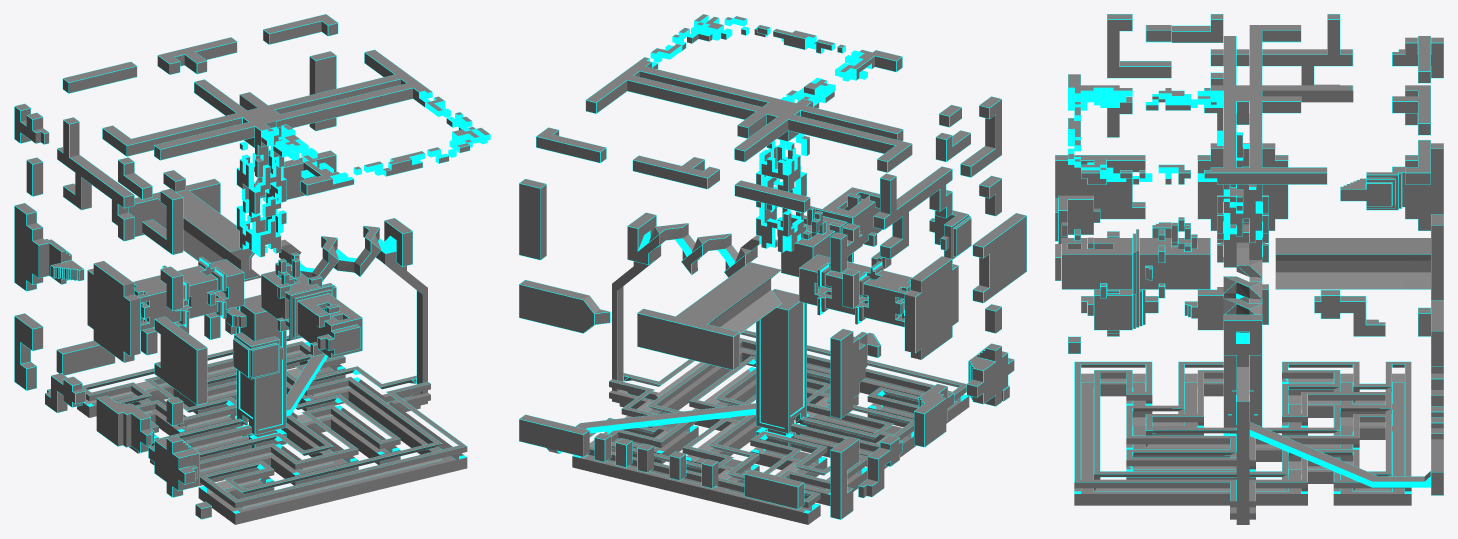
File: Level1wedge.fbx
3 views of the same model, side by side, from view 1: azimuth 30°, elevation 25°; view 2: azimuth 150°, elevation 25°; view 3: azimuth 270°, elevation 25° (orthographic). The views are drawn at different scales.
Visible parts, largest first — view 1: slot393, slot393.001; view 2: slot393, slot393.001; view 3: slot393, slot393.001.
Part boxes in pixels (box(x1,y1,x2,y2)): slot393: box(14, 14, 490, 524); slot393.001: box(14, 103, 362, 519); slot393: box(519, 14, 969, 524); slot393.001: box(781, 96, 1026, 498); slot393: box(1068, 25, 1443, 524); slot393.001: box(1055, 14, 1443, 353).
Size of the model in its own units: 96000 by 94400 by 96000.
